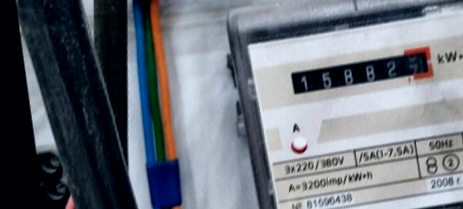1: (300, 70, 312, 89)
2: (387, 56, 400, 75)
5: (322, 68, 335, 86)
7: (410, 60, 422, 72)
8: (342, 64, 357, 82), (365, 60, 378, 79)
screen: (283, 40, 442, 101)
